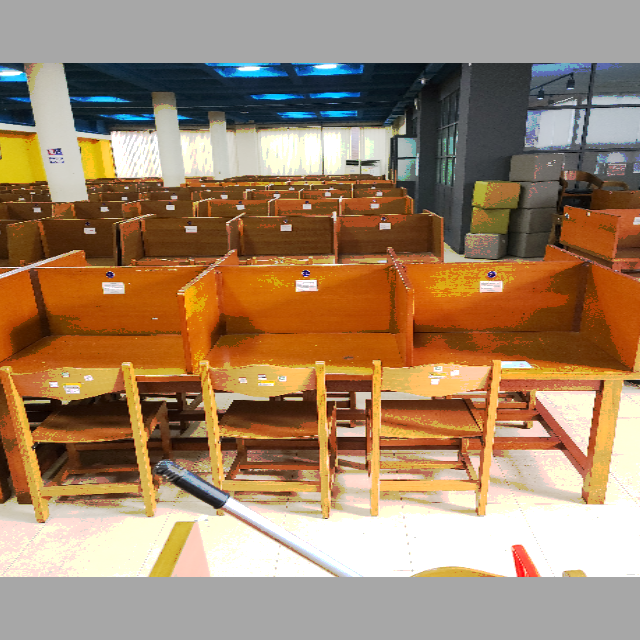empty: (420, 257, 640, 445), (200, 254, 413, 448), (1, 256, 190, 422)
